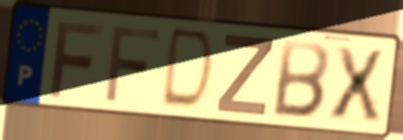B: (268, 37, 332, 121)
D: (157, 25, 217, 114)
F: (47, 17, 107, 100), (103, 23, 163, 104)
X: (327, 44, 386, 124)
Z: (213, 31, 276, 119)
